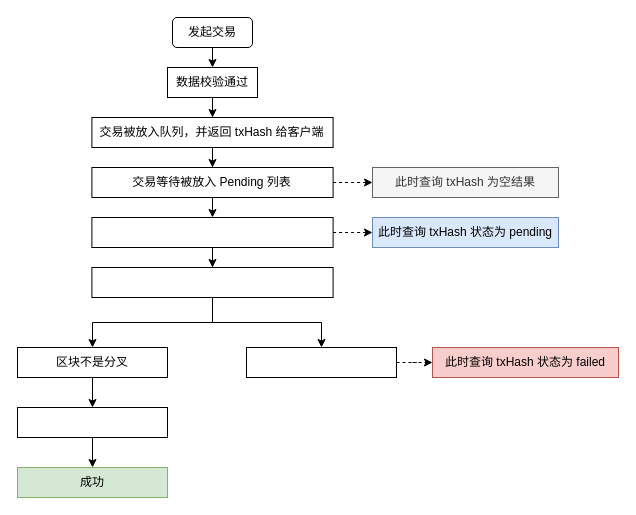
This 636x515 diagram has some shape labels left out. The shapes that lost their labels are listed below. From the top down, each one's centre as x and y in pixels, then its label:
At [212,232]: "交易被放入 Pending 列表，等待区块打包".
At [212,282]: "区块打包了这笔交易".
At [321,362]: "失败".
At [92,422]: "交易被从等待列表中移除".
